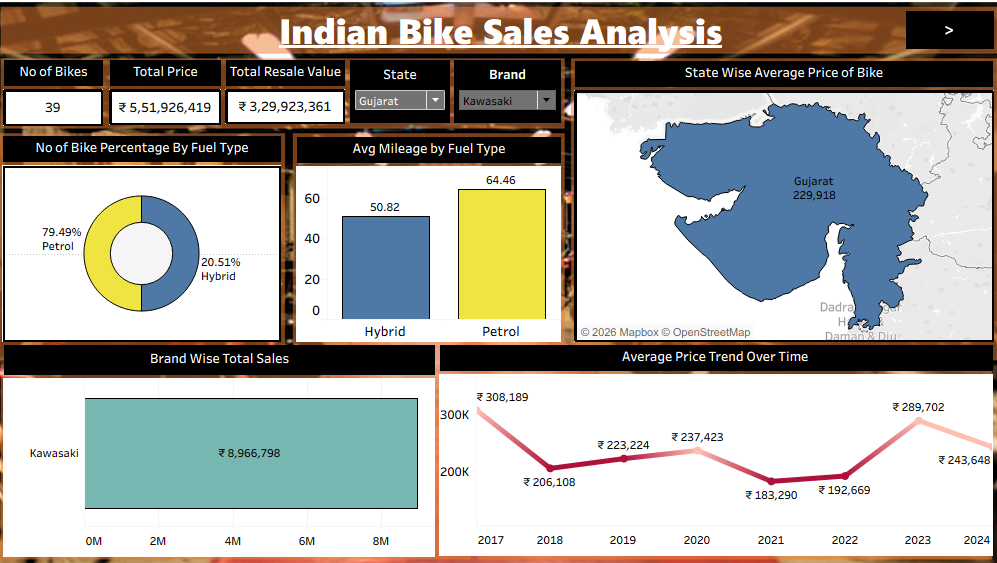

The dashboard page shown, as its layout file describes it:
{"tool":"tableau","page":{"name":"Dashboard 1","canvas":[1024,768],"ordinal":0},"visuals":[{"type":"image","param":"C:/Users/Ashu/OneDrive/Desktop/dash 1.png","box":[8,8,1008,752]},{"type":"text","box":[110,108,808,46]},{"type":"dashboard-object","box":[919,112,88,38]},{"type":"worksheet","title":"Total Bikes","mark":"Automatic","box":[16,161,100,66]},{"type":"worksheet","title":"Total Price","mark":"Automatic","box":[122,161,112,65]},{"type":"worksheet","title":"Total Resale Value","mark":"Automatic","box":[238,161,120,64]},{"type":"filter","title":"State Wise Average Price of Bike","param":"[federated.1idx07p17kpgme1gkm1hn1pq9t39].[none:State:nk]","box":[363,161,100,63]},{"type":"filter","title":"Avg Mileage by Fuel Type","param":"[federated.1idx07p17kpgme1gkm1hn1pq9t39].[none:Brand:nk]","box":[467,161,107,63]},{"type":"worksheet","title":"State Wise Average Price of Bike","mark":"Automatic","box":[587,162,420,281]},{"type":"worksheet","title":"No of Bike Percentage By Fuel Type","mark":"Pie","rows":["Calculation_719731533272817665","Calculation_719731533272817665"],"box":[15,237,279,206]},{"type":"worksheet","title":"Avg Mileage by Fuel Type","mark":"Automatic","rows":["Mileage (/km)"],"cols":["Fuel Type"],"box":[309,238,265,205]},{"type":"worksheet","title":"Sheet 11","mark":"Automatic","box":[403.4,286.6,0.9,255.5]},{"type":"worksheet","title":"Brand Performance","mark":"Automatic","rows":["Brand"],"cols":["Price (INR)"],"box":[16,446,432,212]},{"type":"worksheet","title":"Price Trend Over Time ","mark":"Line","rows":["Price (INR)"],"cols":["Registration Year"],"box":[452,446,554,211]}]}

Visuals, with their boxes on the page's 1024x768 design canvas (x1, y1, x2, y2). These are canvas units, not pixel positions in the 997x563 screenshot, which may show the page scaled, cropped or inside an application window:
image: [8,8,1016,760]
text: [110,108,918,154]
dashboard-object: [919,112,1007,150]
"Total Bikes" worksheet: [16,161,116,227]
"Total Price" worksheet: [122,161,234,226]
"Total Resale Value" worksheet: [238,161,358,225]
"State Wise Average Price of Bike" filter: [363,161,463,224]
"Avg Mileage by Fuel Type" filter: [467,161,574,224]
"State Wise Average Price of Bike" worksheet: [587,162,1007,443]
"No of Bike Percentage By Fuel Type" worksheet (Pie marks): [15,237,294,443]
"Avg Mileage by Fuel Type" worksheet: [309,238,574,443]
"Sheet 11" worksheet: [403,287,404,542]
"Brand Performance" worksheet: [16,446,448,658]
"Price Trend Over Time " worksheet (Line marks): [452,446,1006,657]
